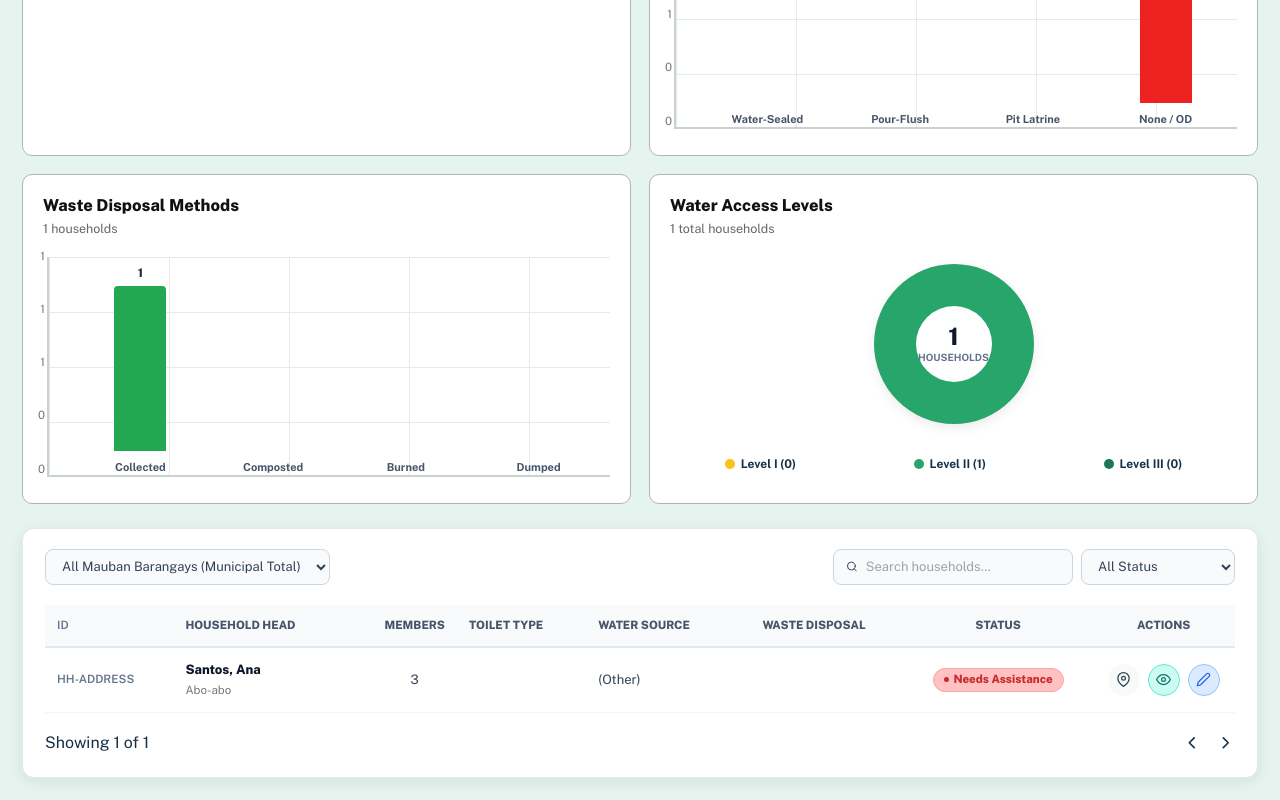
Test: details display all address information
(page scrolled)
Click the button titled "View Household Details": (1164, 680) [1148,664,1180,696]
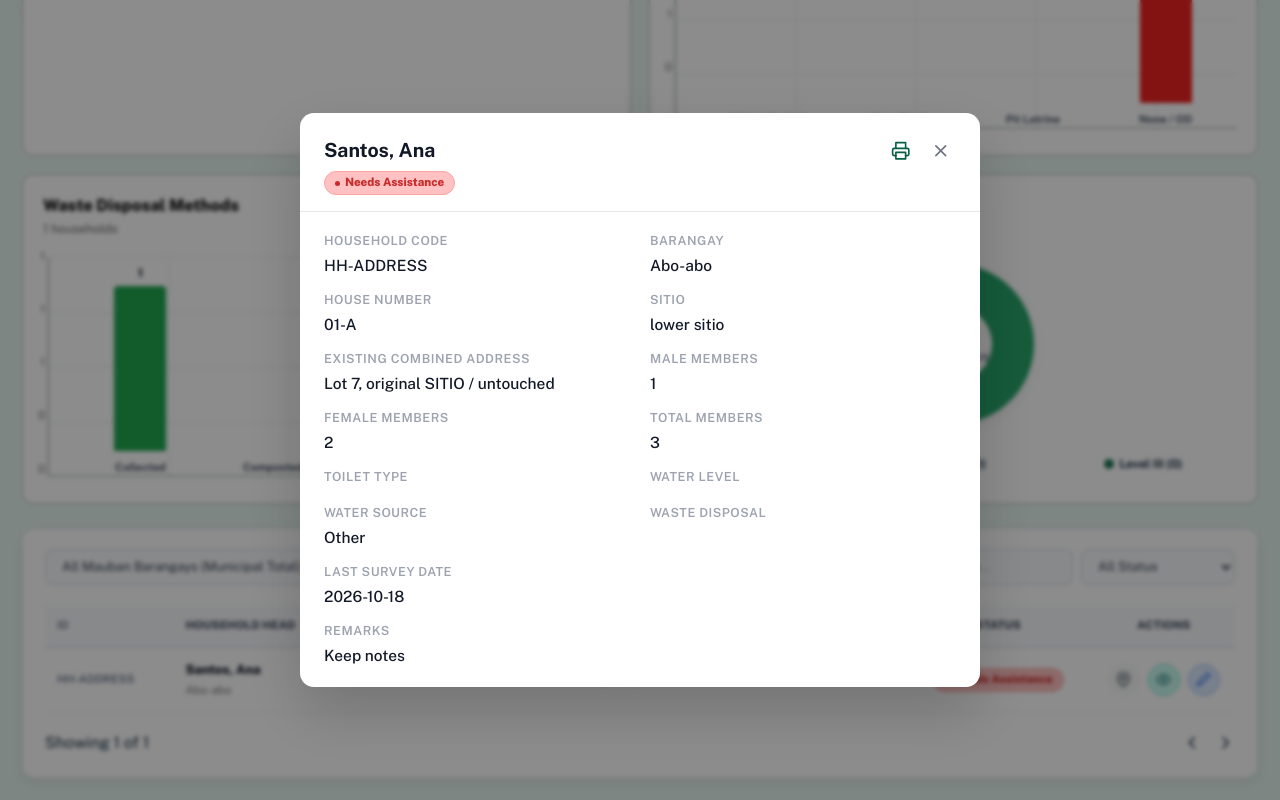
Now the text "House Number" is shown, box [324,292,432,307]
Now the text "01-A" is shown, box [324,315,357,333]
Now the text "Sitio" is shown, box [650,292,685,307]
